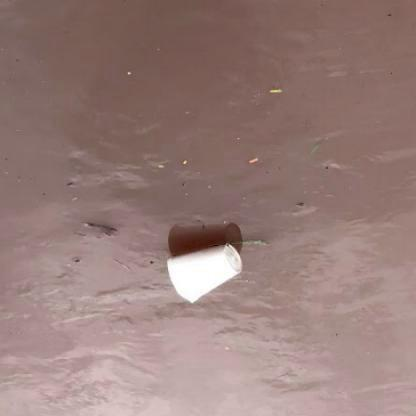Plastic: (164, 239, 245, 308)
